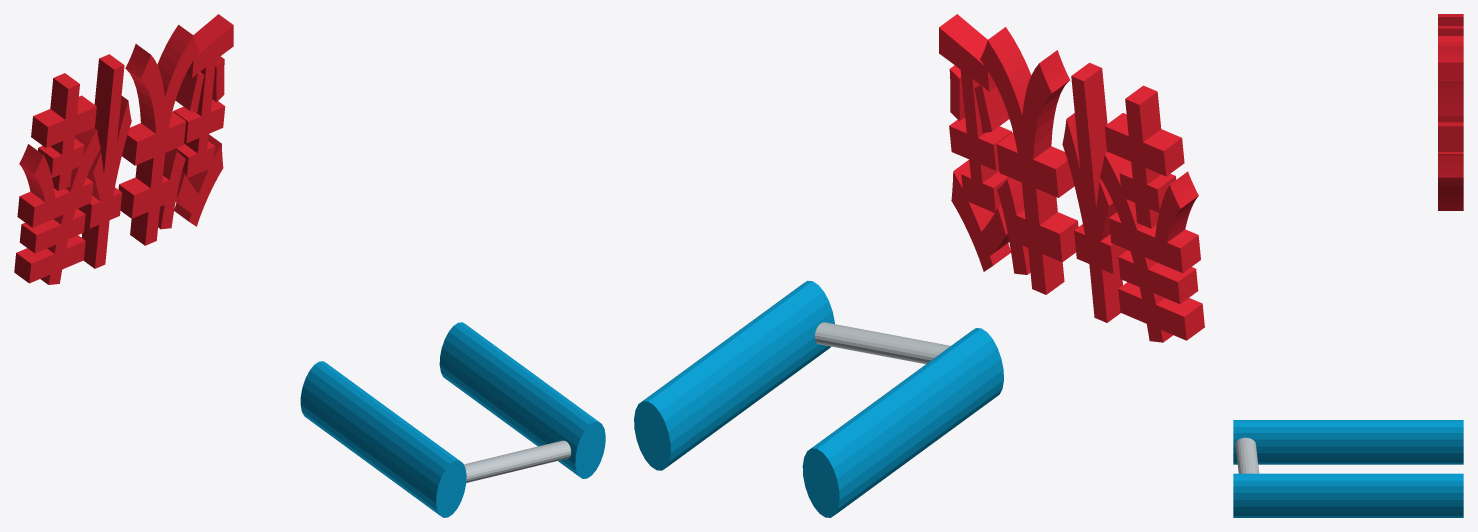
The model's file is tinker.obj.
The picture shows the model from 3 angles, left to right: view 1: azimuth 30°, elevation 25°; view 2: azimuth 150°, elevation 25°; view 3: azimuth 270°, elevation 25°; orthographic projection. The views are drawn at different scales.
Parts seen in each view (by area): view 1: group_0_15277357, group_0_40919, group_0_12568524; view 2: group_0_15277357, group_0_40919, group_0_12568524; view 3: group_0_40919, group_0_15277357, group_0_12568524.
Part boxes in pixels (bbox=[...]): group_0_15277357: bbox=[14, 14, 233, 284]; group_0_40919: bbox=[300, 322, 605, 517]; group_0_12568524: bbox=[464, 440, 570, 482]; group_0_15277357: bbox=[939, 14, 1204, 342]; group_0_40919: bbox=[634, 280, 1003, 517]; group_0_12568524: bbox=[815, 322, 950, 364]; group_0_40919: bbox=[1233, 420, 1463, 517]; group_0_15277357: bbox=[1438, 14, 1463, 210]; group_0_12568524: bbox=[1235, 437, 1259, 473].
Size of the model in its own units: 44.62 by 39.96 by 23.
